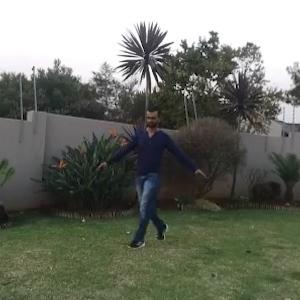land: (106, 108, 202, 230)
